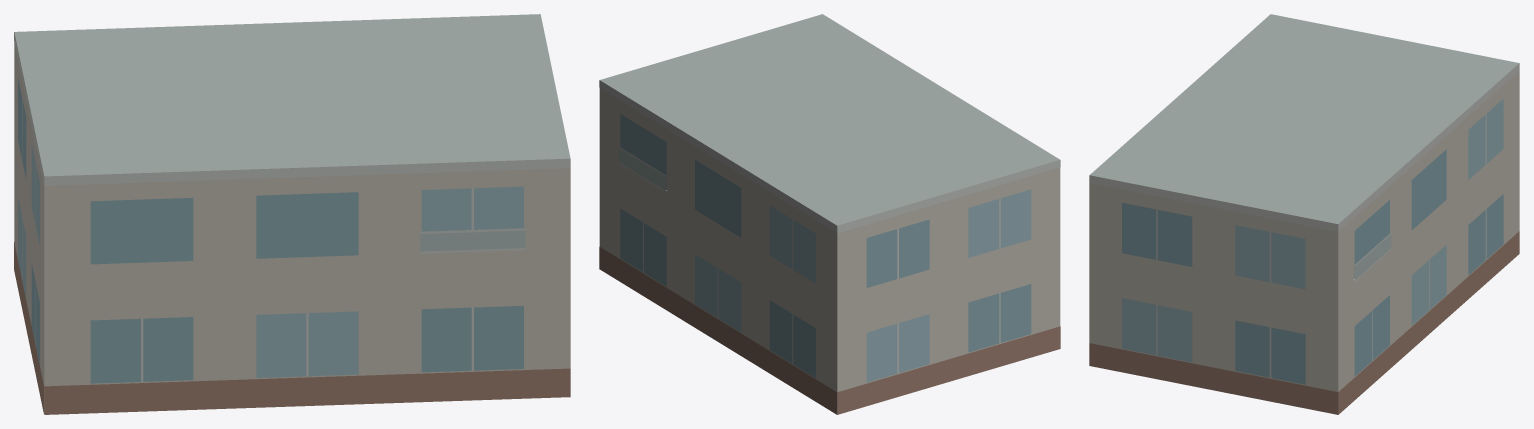
File: survey-upis-32712253.glb
3 views of the same model, side by side, from view 1: azimuth 30°, elevation 25°; view 2: azimuth 150°, elevation 25°; view 3: azimuth 270°, elevation 25° (orthographic). The views are drawn at different scales.
Visible parts, largest first — view 1: survey-upis-32712253.tmp; view 2: survey-upis-32712253.tmp; view 3: survey-upis-32712253.tmp.
Part boxes in pixels (x1=…): survey-upis-32712253.tmp: x1=14, y1=14, x2=570, y2=414; survey-upis-32712253.tmp: x1=599, y1=14, x2=1060, y2=414; survey-upis-32712253.tmp: x1=1089, y1=14, x2=1519, y2=414.
Size of the model in its own units: 14.43 by 6.1 by 12.48.
